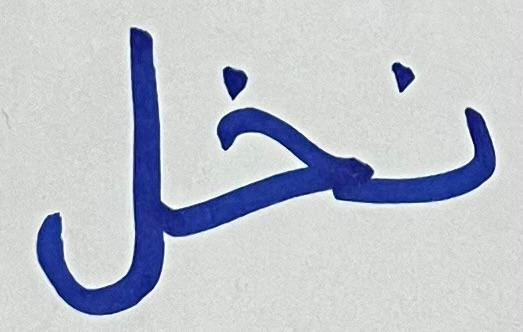alef: (265, 66, 271, 69)
khah: (197, 66, 375, 242)
lam: (19, 12, 192, 320)
noon: (383, 52, 503, 220)
